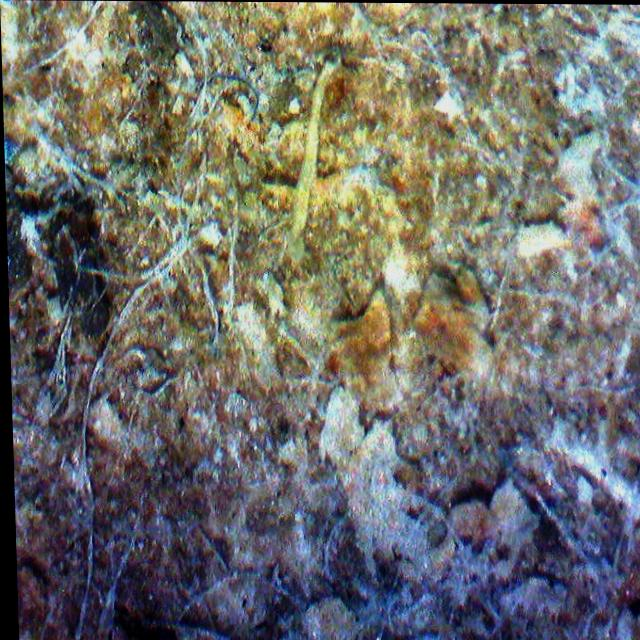microplastic: (194, 62, 269, 123)
